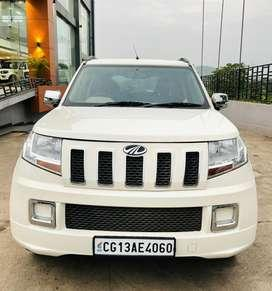CG13AE4060: (93, 236, 172, 254)
